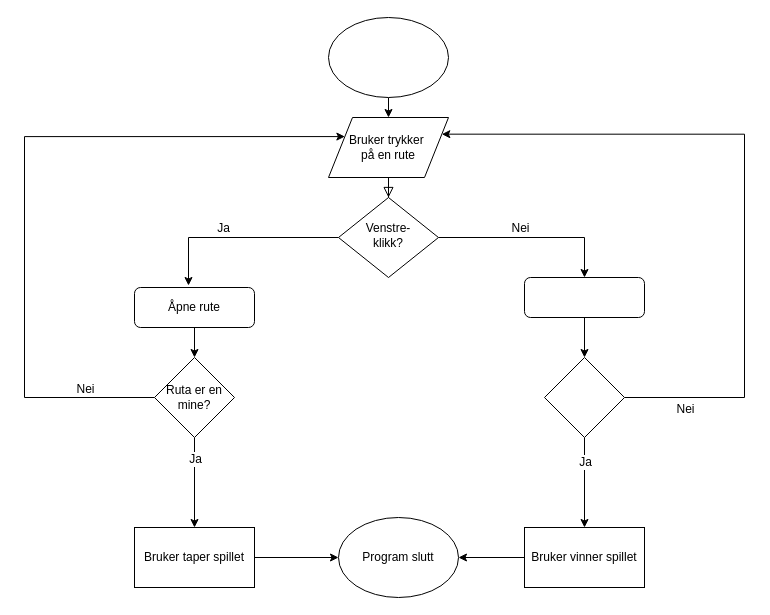
Some shapes in this 770 by 615 pixel diagram are drawn without their labels. Here are the shapes that lost their labels. From the top down, the centre of each, then its label:
At pixel 388 57: "Program start".
At pixel 584 297: "Marker / fjern markering".
At pixel 584 397: "Alle miner markert?".
